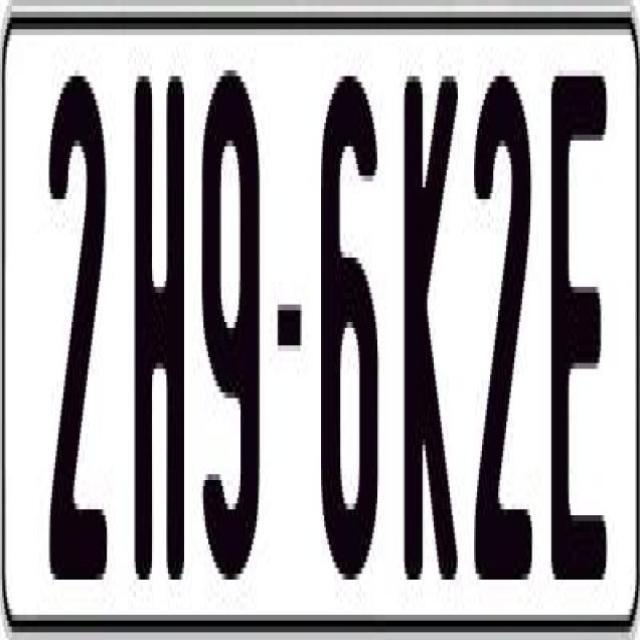license-plate: (4, 12, 640, 640), (632, 92, 640, 640)
